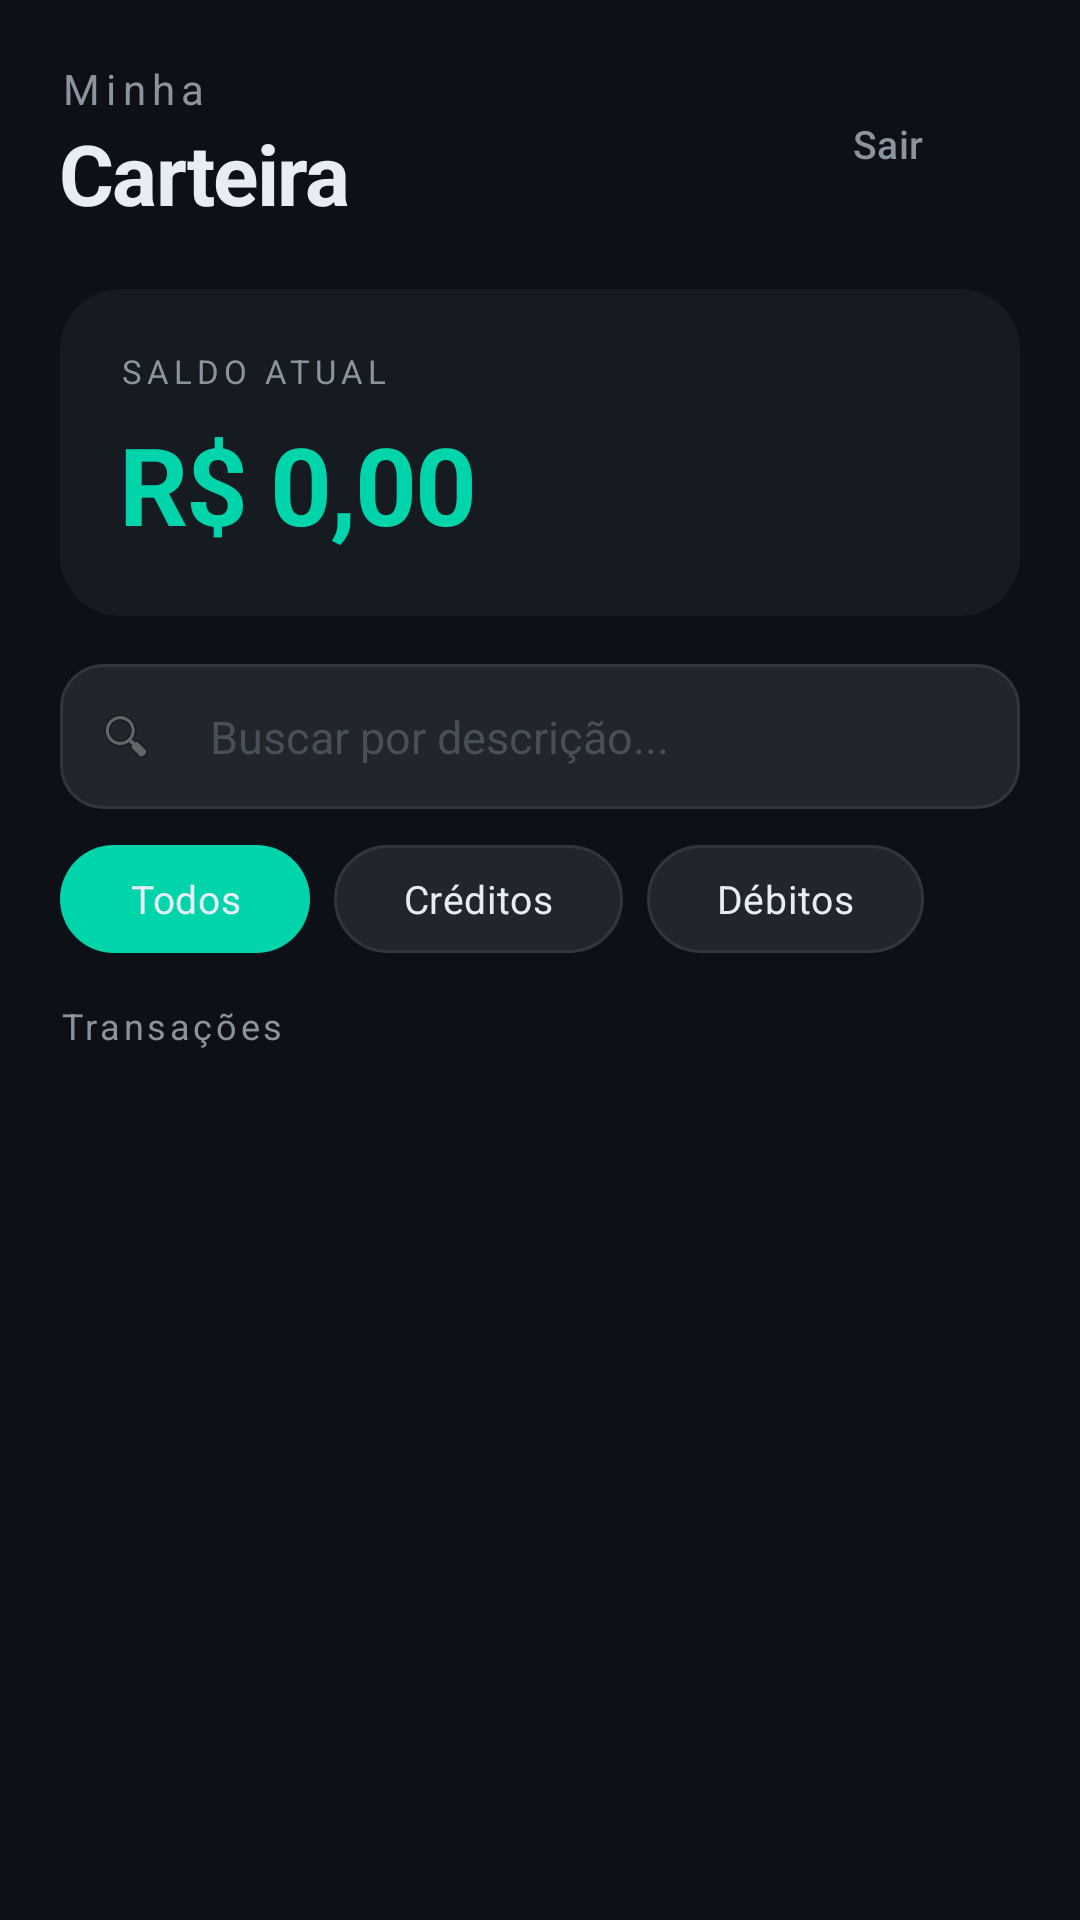

Named icons in this screenshot (1080w x 1920h) and their bounding boxes, (x1, y1, x2, y2):
search: (106, 716, 146, 756)
